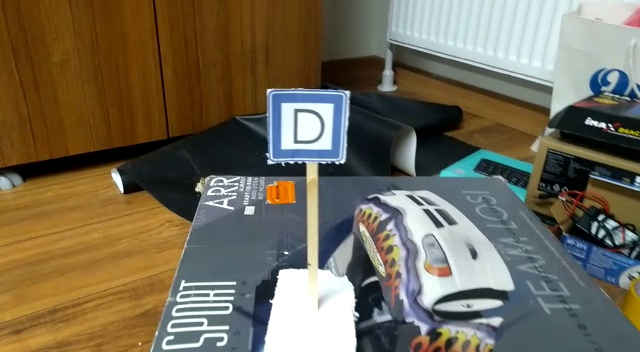durak: (267, 91, 347, 161)
